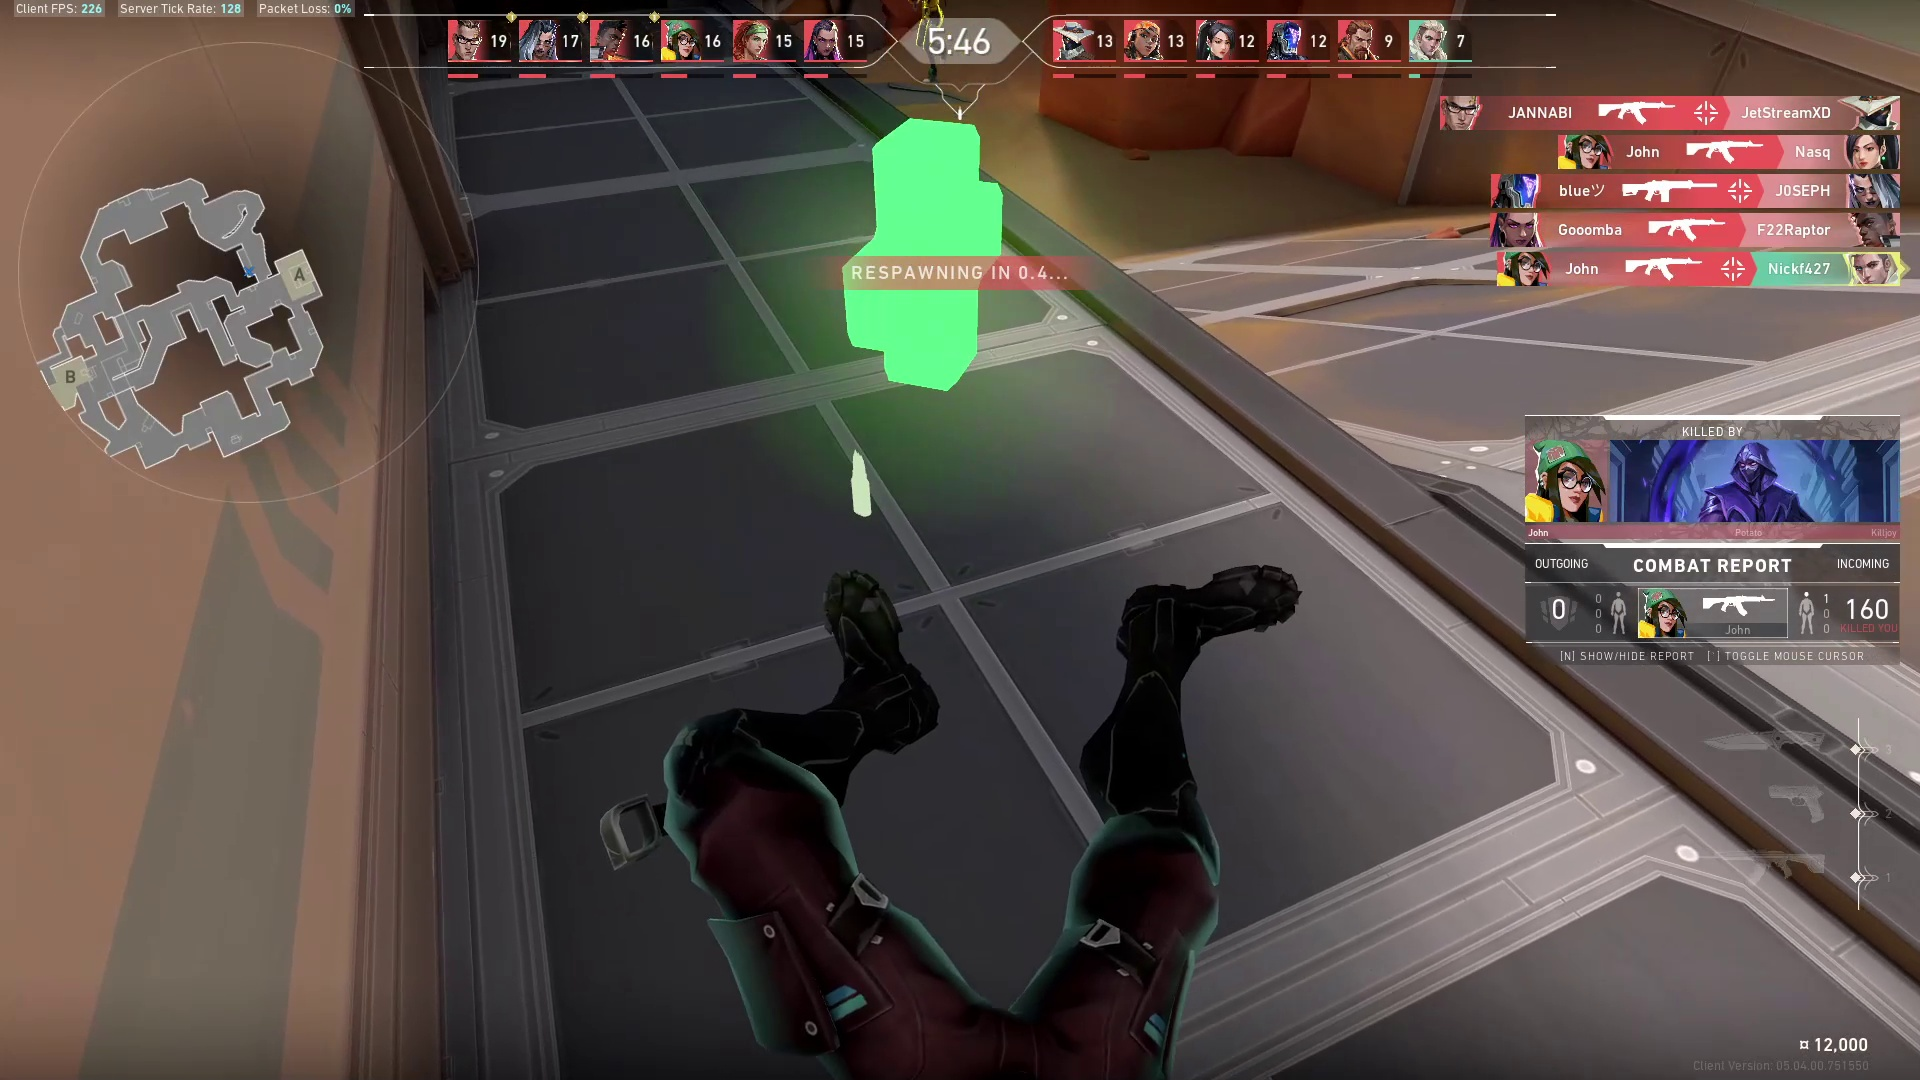enemy_gen: (915, 1, 948, 18), (928, 55, 943, 79)
